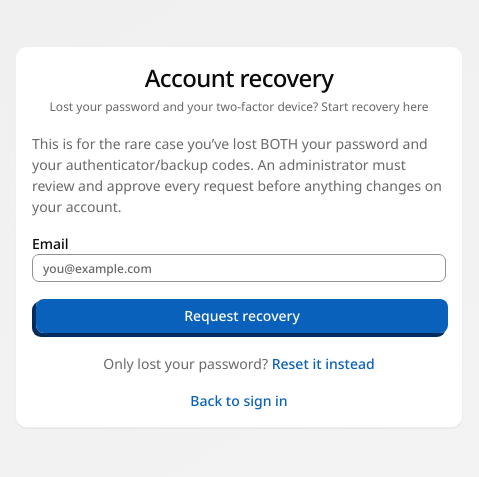
Test: surfaces a 429 as a rate-limit message on the request form
Type "flood@example.com" into the field labelled "Email" at (239, 268), box [32,254,446,282]
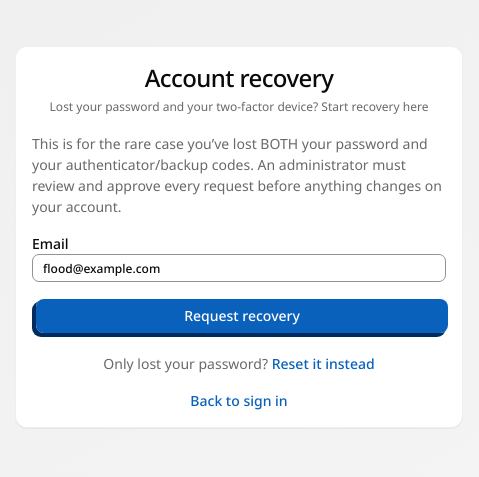
Click the button "Request recovery" at (242, 316), box [35,298,449,334]
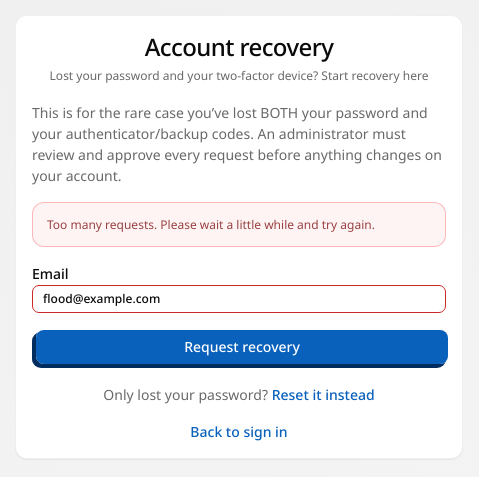
Now the text "Too many requests. Please wait a little while and try again." is shown, box [47,215,431,234]
